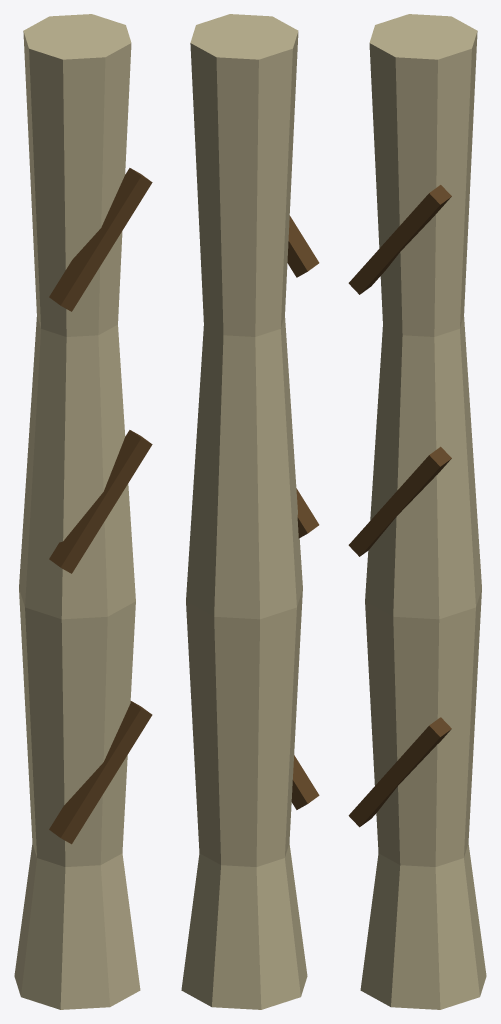
The model's file is carved_bone_standard.obj.
The picture shows the model from 3 angles, left to right: view 1: azimuth 30°, elevation 25°; view 2: azimuth 150°, elevation 25°; view 3: azimuth 330°, elevation 25°; orthographic projection.
Parts seen in each view (by area): view 1: bone_standard, bone_carving_-0.58, bone_carving_0.06, bone_carving_0.68, bone_carving_0.68_edge, bone_carving_0.06_edge, bone_carving_-0.58_edge; view 2: bone_standard, bone_carving_0.68_edge, bone_carving_-0.58_edge, bone_carving_0.06_edge, bone_carving_0.68; view 3: bone_standard, bone_carving_-0.58, bone_carving_0.06, bone_carving_0.68, bone_carving_0.68_edge, bone_carving_-0.58_edge, bone_carving_0.06_edge.
Boxes of the visible parts, bbox=[...] form: bone_standard: bbox=[14, 14, 140, 1009]; bone_carving_-0.58: bbox=[61, 709, 152, 844]; bone_carving_0.06: bbox=[61, 438, 152, 573]; bone_carving_0.68: bbox=[60, 176, 152, 311]; bone_carving_0.68_edge: bbox=[49, 168, 151, 305]; bone_carving_0.06_edge: bbox=[49, 430, 150, 567]; bone_carving_-0.58_edge: bbox=[49, 701, 150, 837]; bone_standard: bbox=[181, 14, 307, 1009]; bone_carving_0.68_edge: bbox=[288, 215, 319, 271]; bone_carving_-0.58_edge: bbox=[293, 755, 319, 803]; bone_carving_0.06_edge: bbox=[296, 488, 319, 533]; bone_carving_0.68: bbox=[287, 241, 307, 277]; bone_standard: bbox=[360, 14, 486, 1009]; bone_carving_-0.58: bbox=[348, 726, 440, 827]; bone_carving_0.06: bbox=[348, 455, 439, 556]; bone_carving_0.68: bbox=[348, 193, 439, 294]; bone_carving_0.68_edge: bbox=[360, 185, 451, 294]; bone_carving_-0.58_edge: bbox=[360, 717, 451, 826]; bone_carving_0.06_edge: bbox=[360, 446, 451, 556].
Size of the model in its own units: 0.28 by 2.24 by 0.28.
